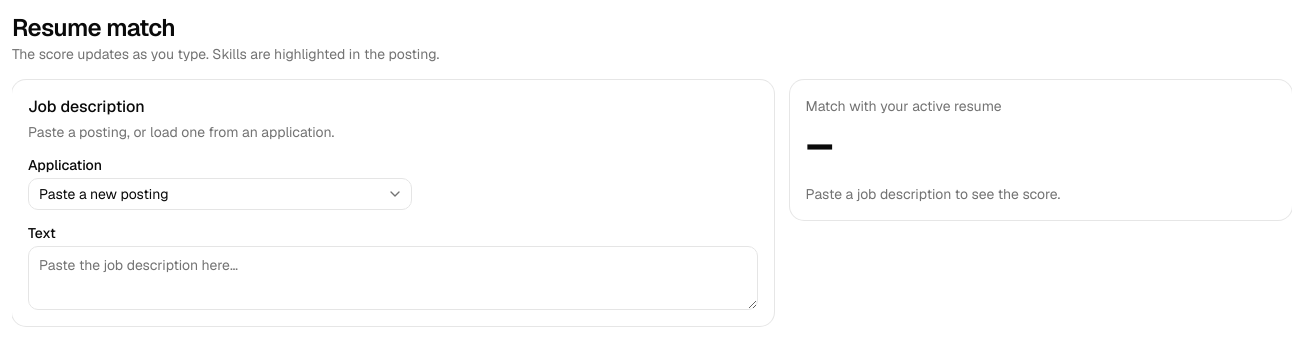
MatchPage › loads an application's description and saves edits back to it
Later steps or results of the test are not shown.
Click the dropdown named "Application": coordinates (104, 194) [28,178,412,210]
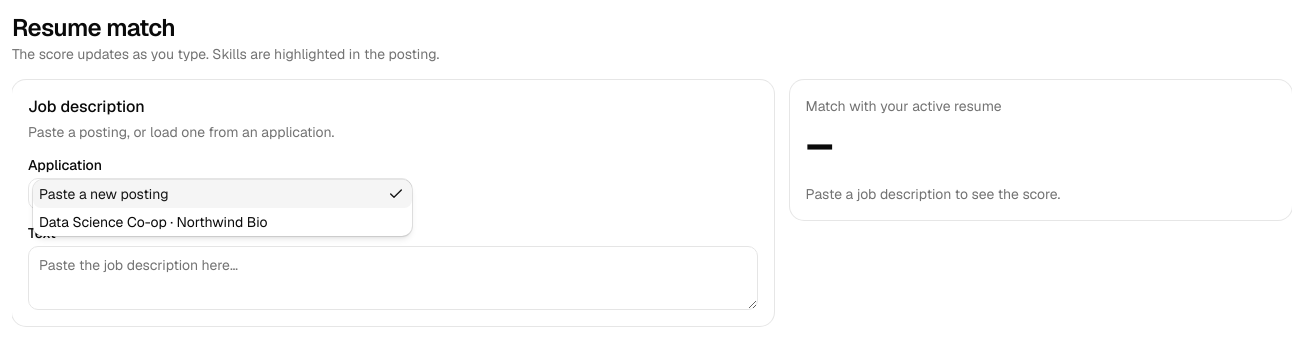
Click the option "Data Science Co-op · Northwind Bio": coordinates (153, 222) [39,213,268,231]
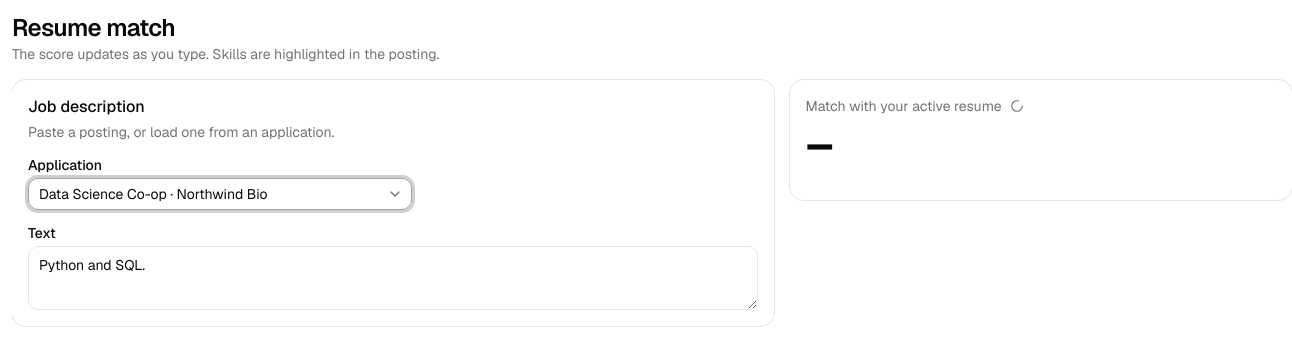
Result: the text box labelled "Text" holds "Python and SQL." at [28,246,758,310]
